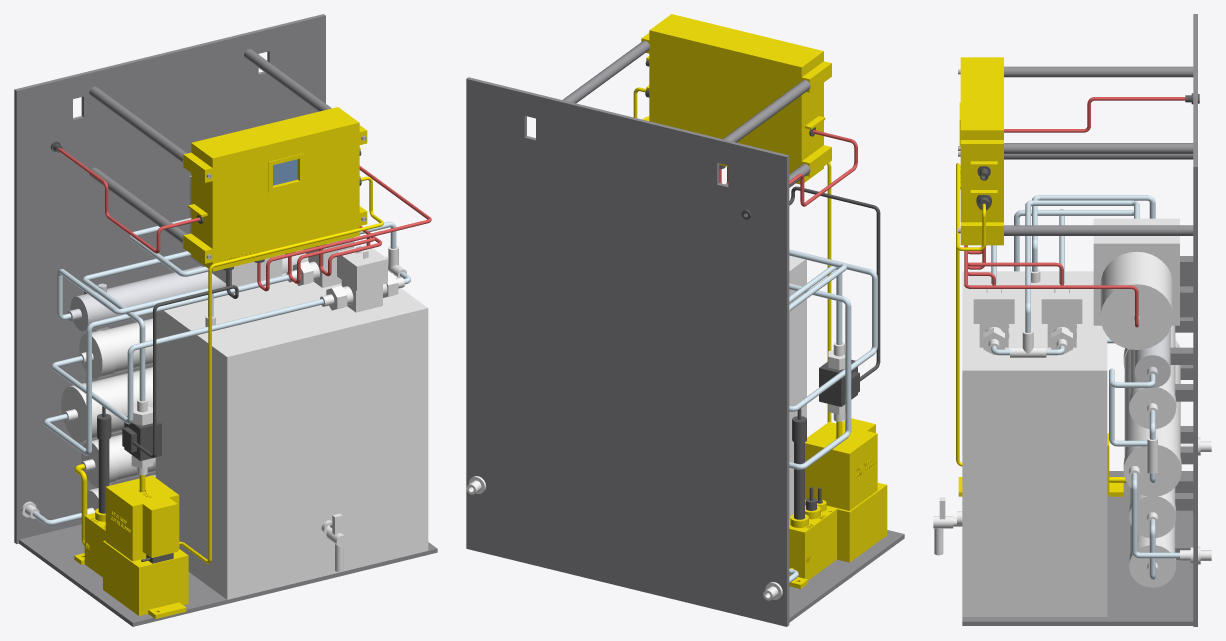
Rendered from final_product_cutaway.glb.
3 views of the same model, side by side, from view 1: azimuth 30°, elevation 25°; view 2: azimuth 150°, elevation 25°; view 3: azimuth 270°, elevation 25° (orthographic). The views are drawn at different scales.
Parts seen in each view (by area): view 1: NAUO9, NAUO93, NAUO71, NAUO44, NAUO45, NAUO70, NAUO8, NAUO6, NAUO18, NAUO7, NAUO32, NAUO42 (+14 smaller); view 2: NAUO93, NAUO70, NAUO44, NAUO45, NAUO9, NAUO31, NAUO32, NAUO65, NAUO12, NAUO38, NAUO42, NAUO27 (+3 smaller); view 3: NAUO9, NAUO93, NAUO11, NAUO70, NAUO6, NAUO7, NAUO18, NAUO15, NAUO4, NAUO5, NAUO42, NAUO28 (+14 smaller).
Boxes of the visible parts, bbox=[...] form: NAUO9: bbox=[155, 273, 428, 599]; NAUO93: bbox=[14, 14, 437, 626]; NAUO71: bbox=[203, 121, 367, 271]; NAUO44: bbox=[74, 508, 188, 618]; NAUO45: bbox=[105, 475, 179, 561]; NAUO70: bbox=[183, 107, 364, 268]; NAUO8: bbox=[67, 250, 308, 331]; NAUO6: bbox=[61, 367, 152, 442]; NAUO18: bbox=[337, 244, 387, 312]; NAUO7: bbox=[79, 318, 152, 378]; NAUO32: bbox=[51, 299, 323, 424]; NAUO42: bbox=[179, 176, 383, 563]; NAUO93: bbox=[466, 41, 904, 626]; NAUO70: bbox=[641, 15, 829, 184]; NAUO44: bbox=[789, 482, 887, 588]; NAUO45: bbox=[805, 418, 877, 510]; NAUO9: bbox=[789, 255, 806, 518]; NAUO31: bbox=[789, 283, 851, 469]; NAUO32: bbox=[789, 249, 877, 411]; NAUO65: bbox=[792, 408, 806, 519]; NAUO12: bbox=[819, 359, 865, 406]; NAUO38: bbox=[789, 186, 880, 376]; NAUO42: bbox=[633, 87, 831, 422]; NAUO27: bbox=[789, 266, 842, 344]; NAUO9: bbox=[957, 269, 1107, 616]; NAUO93: bbox=[962, 14, 1197, 626]; NAUO11: bbox=[1093, 218, 1179, 349]; NAUO70: bbox=[964, 57, 1003, 245]; NAUO6: bbox=[1123, 340, 1181, 496]; NAUO7: bbox=[1129, 325, 1176, 428]; NAUO18: bbox=[973, 284, 1014, 347]; NAUO15: bbox=[1041, 284, 1082, 347]; NAUO4: bbox=[1129, 523, 1176, 587]; NAUO5: bbox=[1129, 487, 1176, 538]; NAUO42: bbox=[956, 163, 985, 466]; NAUO28: bbox=[1025, 200, 1139, 332].
Bounding box in the file's own units: 0.4 × 0.56 × 0.307.
